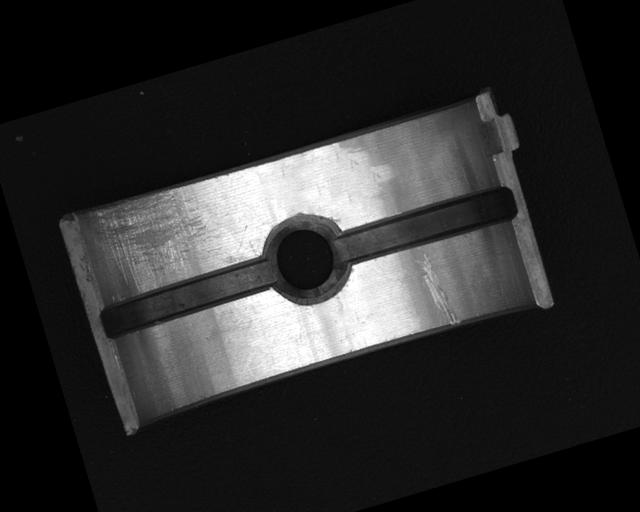gap: (333, 179, 521, 274), (94, 254, 276, 343)
hole: (255, 205, 359, 311)
nick: (413, 248, 462, 331)
scratch: (82, 175, 231, 301)
